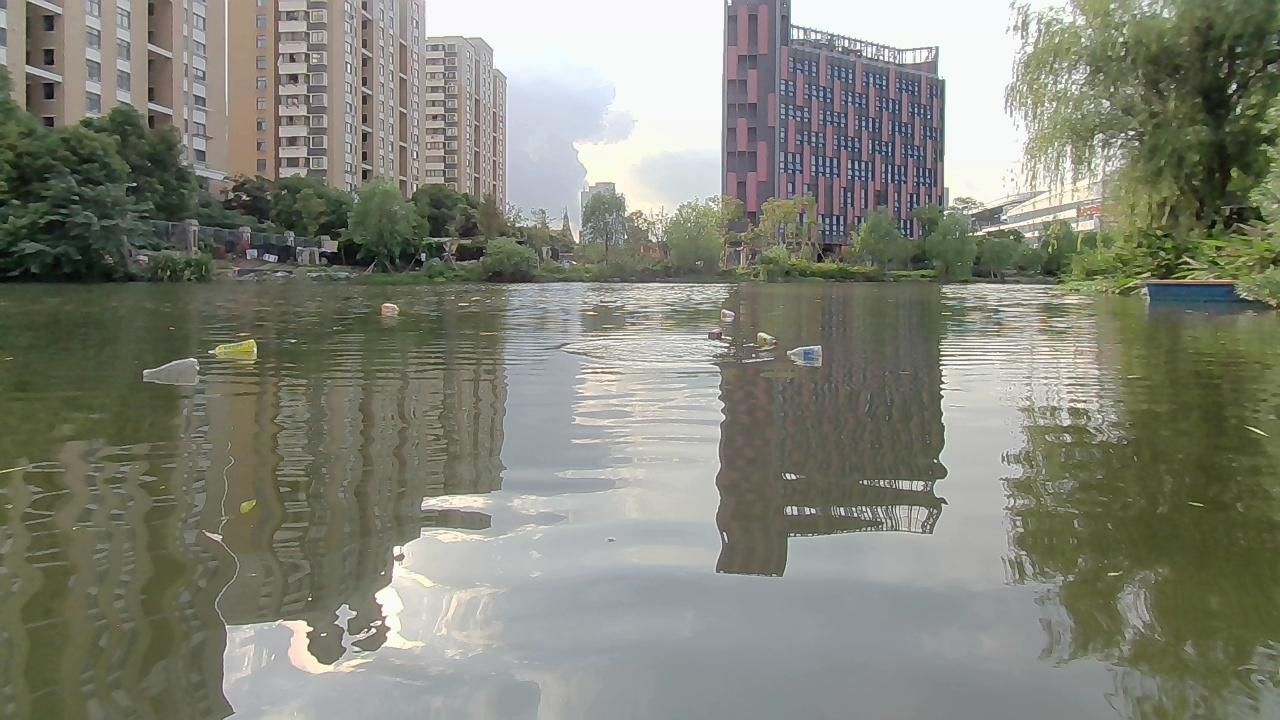bottle: (141, 356, 204, 387), (206, 337, 256, 362), (782, 342, 825, 363), (752, 326, 777, 345), (380, 300, 401, 317), (707, 326, 726, 342), (719, 307, 734, 322)
